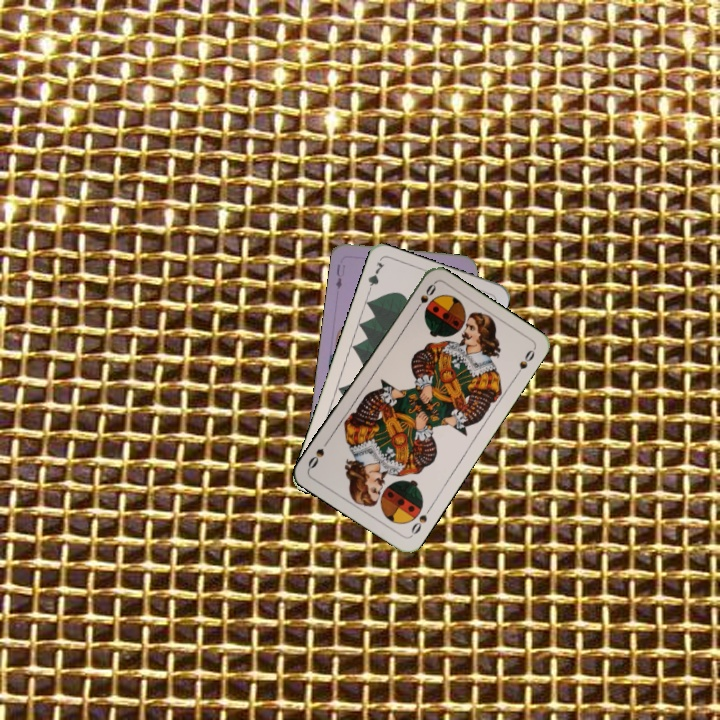EU: (332, 260, 346, 292)
G7: (363, 258, 387, 297)
SO: (410, 280, 439, 316), (407, 503, 434, 537)
